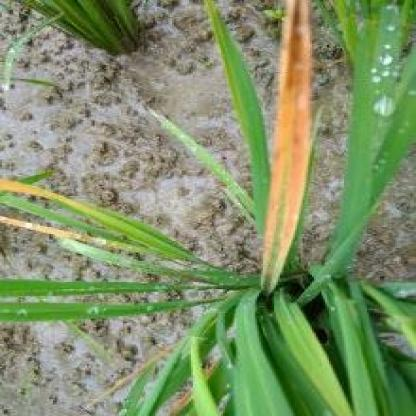Tungro: (266, 2, 316, 291)
